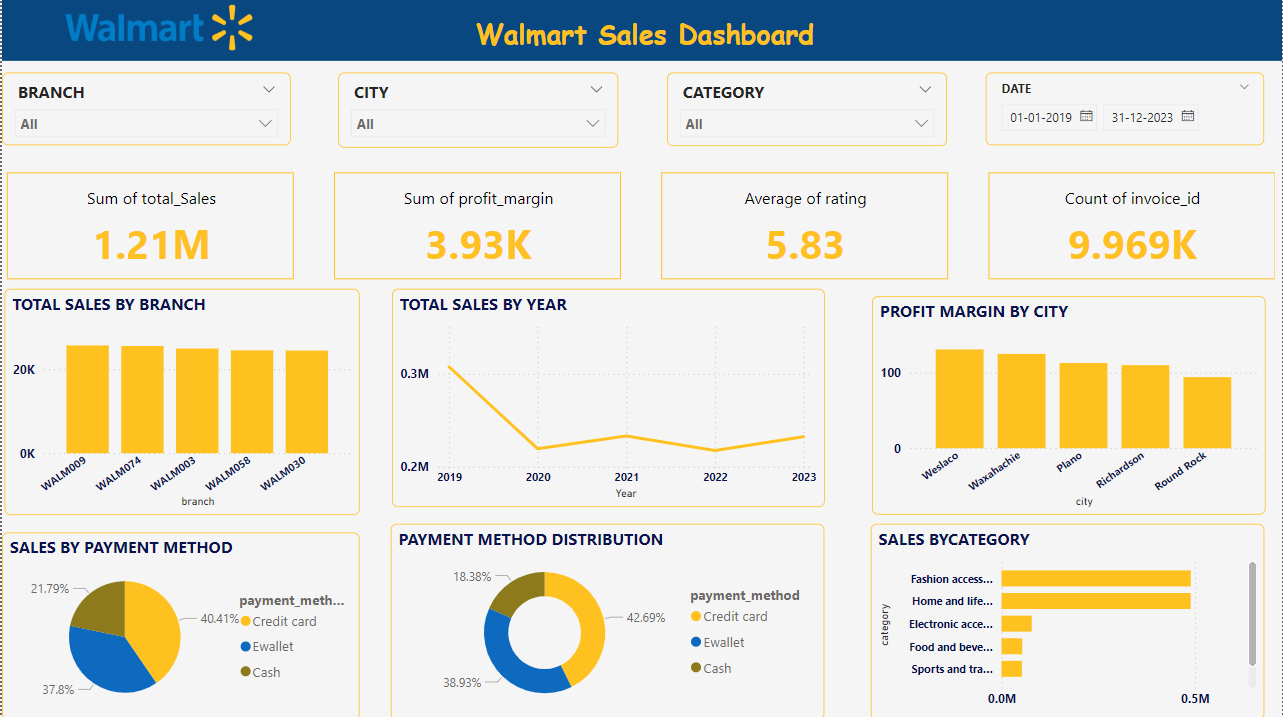

What the dashboard file says about the page in this screenshot:
{"tool":"powerbi","page":{"name":"Page 1","canvas":[1280,720],"ordinal":0},"visuals":[{"type":"columnChart","title":"TOTAL SALES BY BRANCH","fields":{"Y":["Sum(public walmart.total_Sales)"],"Category":["public walmart.branch"]},"box":[2.5,288.8,355,226.2],"z":0},{"type":"pieChart","title":"SALES BY PAYMENT METHOD ","fields":{"Category":["public walmart.payment_method"],"Y":["Sum(public walmart.total_Sales)"]},"box":[0,532.5,357.5,187.5],"z":1000},{"type":"clusteredBarChart","title":"SALES BYCATEGORY","fields":{"Category":["public walmart.category"],"Y":["Sum(public walmart.total_Sales)"]},"box":[868.8,523.8,393.8,196.2],"z":2000},{"type":"columnChart","title":"PROFIT MARGIN BY CITY","fields":{"Y":["Sum(public walmart.profit_margin)"],"Category":["public walmart.city"]},"box":[870,296.2,393.8,218.8],"z":3000},{"type":"lineChart","title":"TOTAL SALES BY YEAR","fields":{"Y":["Sum(public walmart.total_Sales)"],"Category":["public walmart.date.Variation.Date Hierarchy.Year"]},"box":[390,288.8,432.5,218.8],"z":4000},{"type":"slicer","fields":{"Values":["public walmart.city"]},"box":[336.2,72.5,280,75],"z":5000},{"type":"slicer","fields":{"Values":["public walmart.category"]},"box":[665,72.5,280,73.8],"z":6000},{"type":"slicer","fields":{"Values":["public walmart.branch"]},"box":[0,72.5,288.8,72.5],"z":7000},{"type":"shape","box":[0,0,1280.3,61.1],"z":8000},{"type":"image","box":[0,0,314.3,55],"z":9000},{"type":"textbox","box":[468.3,9.8,462.2,62.4],"z":10000},{"type":"slicer","fields":{"Values":["public walmart.date"]},"box":[983.8,72.5,278.8,72.5],"z":11000},{"type":"cardVisual","fields":{"Data":["Sum(public walmart.total_Sales)","Sum(public walmart.profit_margin)","Avg(public walmart.rating)","CountNonNull(public walmart.invoice_id)"]},"box":[0,147.5,1280,157.5],"z":12000},{"type":"donutChart","title":"PAYMENT METHOD DISTRIBUTION","fields":{"Category":["public walmart.payment_method"],"Y":["CountNonNull(public walmart.payment_method)"]},"box":[388.8,523.8,433.8,196.2],"z":13000}]}

Visuals, with their boxes in screenshot pixels (x1, y1, x2, y2), scaled from the page's 1280x720 canvas onto the 1283x717 screenshot:
"TOTAL SALES BY BRANCH" columnChart: <region>3, 288, 358, 513</region>
"SALES BY PAYMENT METHOD " pieChart: <region>0, 530, 358, 716</region>
"SALES BYCATEGORY" clusteredBarChart: <region>871, 522, 1266, 716</region>
"PROFIT MARGIN BY CITY" columnChart: <region>872, 295, 1267, 513</region>
"TOTAL SALES BY YEAR" lineChart: <region>391, 288, 824, 505</region>
slicer - public walmart.city: <region>337, 72, 618, 147</region>
slicer - public walmart.category: <region>667, 72, 947, 146</region>
slicer - public walmart.branch: <region>0, 72, 289, 144</region>
shape: <region>0, 0, 1282, 61</region>
image: <region>0, 0, 315, 55</region>
textbox: <region>469, 10, 933, 72</region>
slicer - public walmart.date: <region>986, 72, 1266, 144</region>
cardVisual - Sum(public walmart.total_Sales) x Sum(public walmart.profit_margin): <region>0, 147, 1282, 304</region>
"PAYMENT METHOD DISTRIBUTION" donutChart: <region>390, 522, 825, 716</region>
